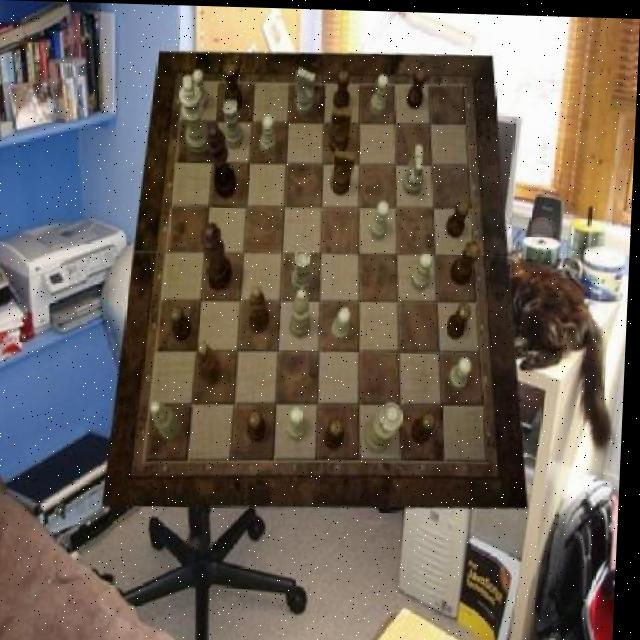bishop: (201, 340, 227, 383), (250, 285, 274, 331)
black-bishop: (206, 120, 241, 198)
black-king: (332, 147, 357, 195), (330, 105, 354, 153)
black-knight: (447, 197, 471, 235), (173, 304, 197, 341), (450, 300, 474, 337), (415, 410, 441, 443), (333, 68, 352, 110), (407, 65, 426, 107), (328, 416, 349, 449), (251, 407, 271, 440)
black-pawn: (201, 222, 237, 290)
black-queen: (452, 237, 484, 283), (224, 59, 246, 112)
black-rook: (153, 401, 186, 440), (293, 287, 316, 339)
white-bishop: (178, 73, 215, 154)
white-king: (405, 142, 426, 193), (296, 67, 318, 115)
white-knight: (413, 250, 435, 289), (451, 354, 476, 388), (370, 200, 391, 240), (192, 68, 211, 110), (370, 72, 389, 114), (291, 404, 312, 439), (261, 114, 278, 154), (335, 305, 353, 340)
white-pawn: (368, 400, 407, 453)
white-queen: (223, 99, 247, 149), (293, 247, 316, 292)
